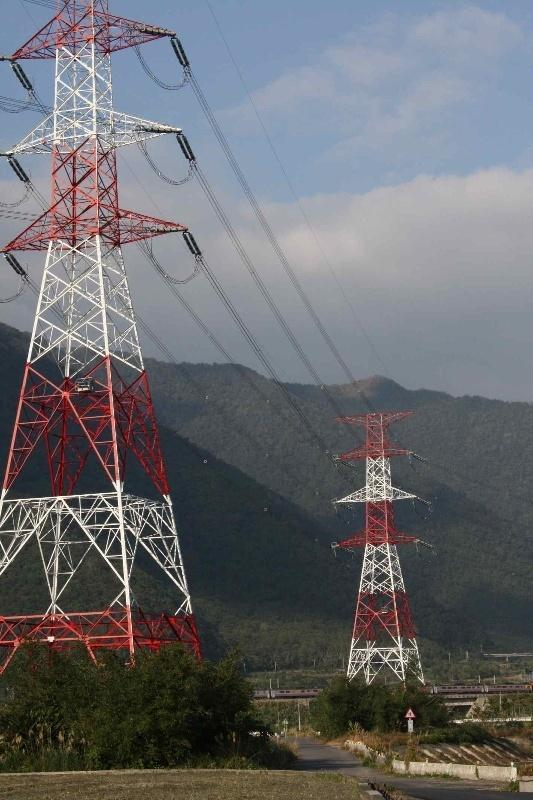power_tower: (12, 5, 194, 650), (320, 393, 439, 681)
